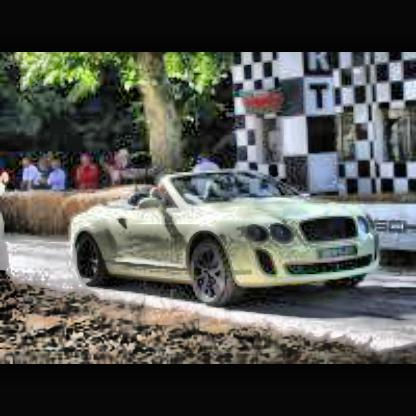Bentley Continental Supersports Conv- Convertible 2012: (69, 168, 387, 305)
